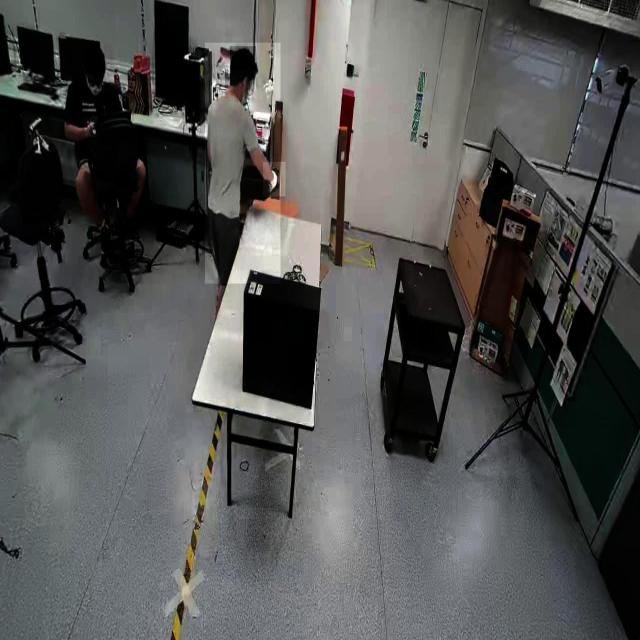hand_glove: (263, 162, 286, 197)
hand_noglove: (85, 116, 98, 138)
head_nohelmet: (230, 46, 256, 70), (83, 42, 105, 66)
person: (205, 43, 281, 284), (61, 45, 115, 252)
